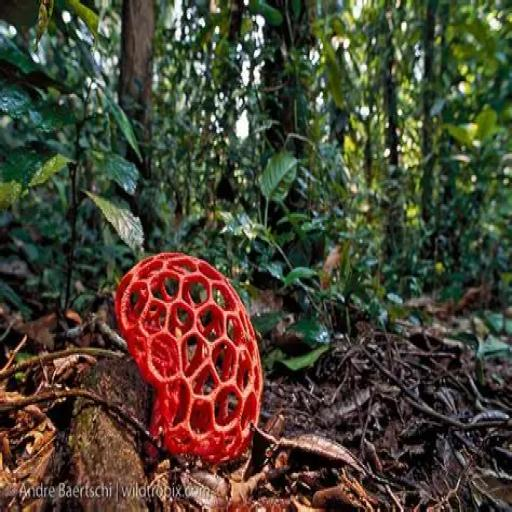Red Cage Fungus: (116, 244, 268, 463)
